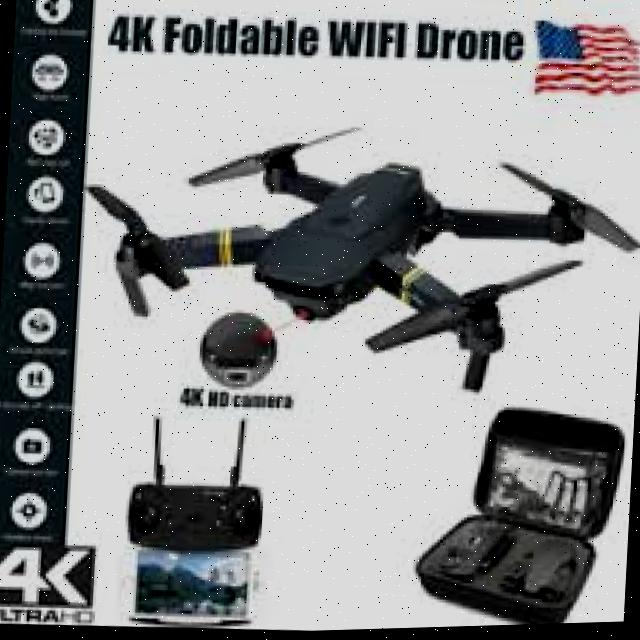drone: (80, 101, 640, 427)
